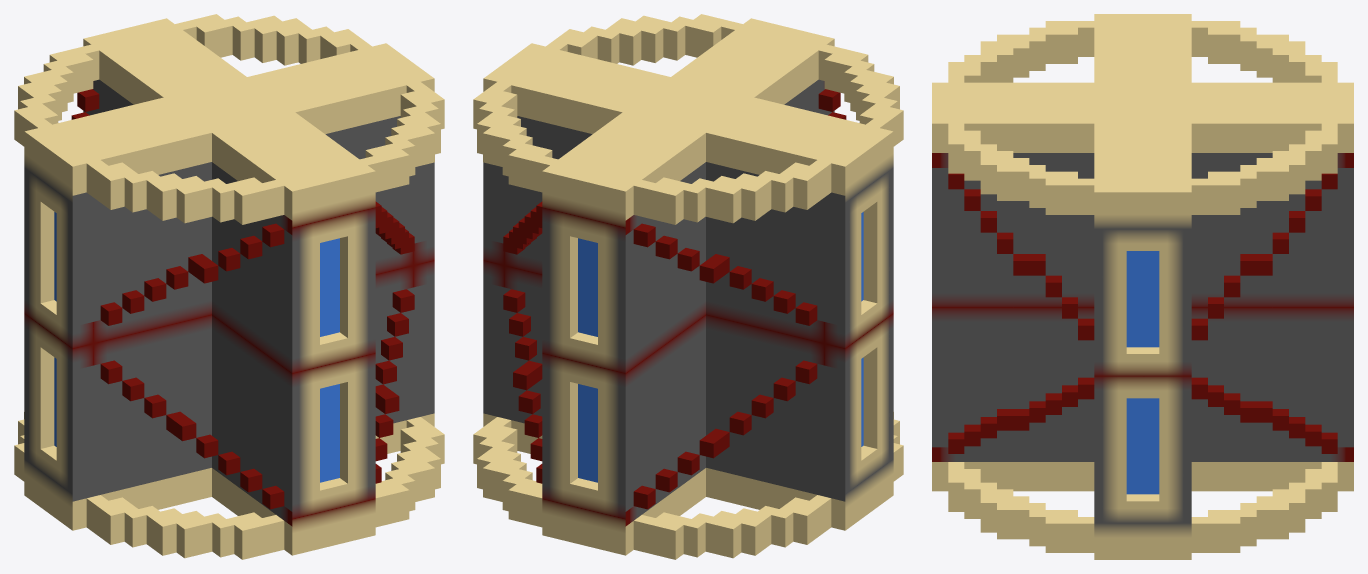
Rendered from crossHouse.fbx.
3 renders of one model, left to right at view 1: azimuth 30°, elevation 25°; view 2: azimuth 150°, elevation 25°; view 3: azimuth 270°, elevation 25°, orthographic.
Visible parts, largest first — view 1: Torus; view 2: Torus; view 3: Torus.
Boxes of the visible parts, x1,y1,x2,y2 form: Torus: (14,14,444,559); Torus: (473,14,903,559); Torus: (932,14,1353,559).
Bounding box in the file's own units: 26 × 25 × 26.
Materials: 1 (1 with a texture image).
